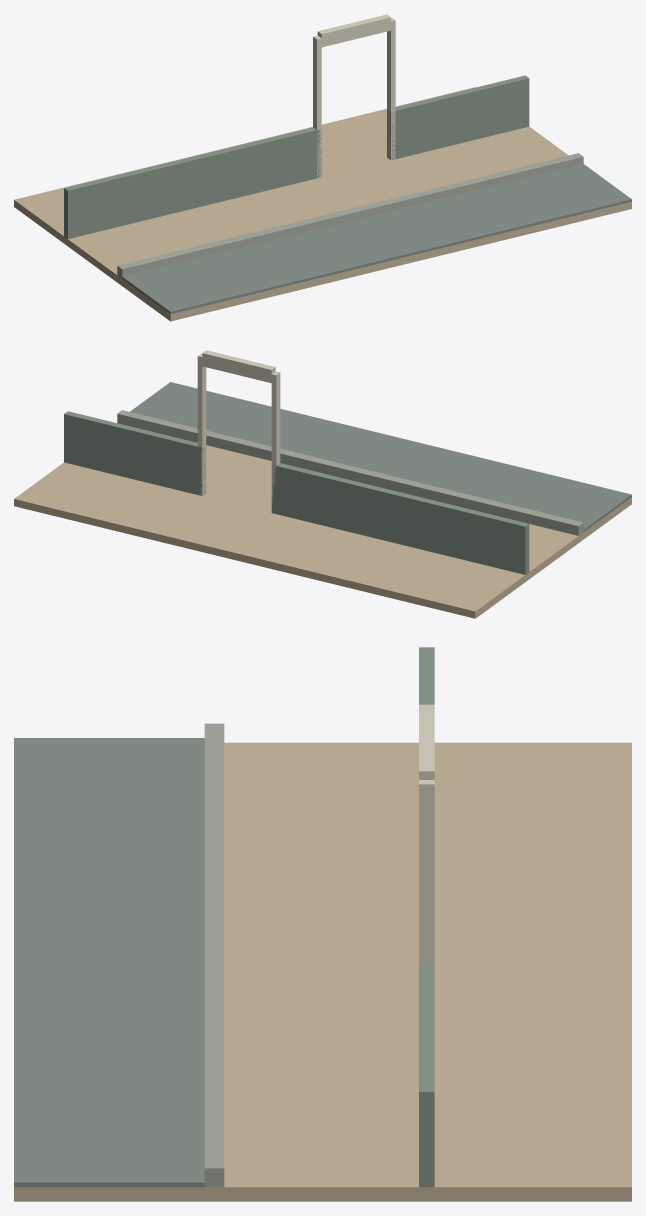
3 renders of one model, top to bottom at view 1: azimuth 30°, elevation 25°; view 2: azimuth 150°, elevation 25°; view 3: azimuth 270°, elevation 25°, orthographic. The views are drawn at different scales.
Visible parts, largest first — view 1: GROUND_0, STREET_7, FY_4, FY_5, CURB_6, YARDG-lintel_3, YARDG-j2_2, YARDG-j1_1; view 2: GROUND_0, STREET_7, FY_4, FY_5, CURB_6, YARDG-lintel_3, YARDG-j2_2, YARDG-j1_1; view 3: GROUND_0, STREET_7, CURB_6, FY_5, YARDG-j2_2, YARDG-lintel_3, FY_4.
Boxes of the visible parts, x1,y1,x2,y2 form: GROUND_0: (14, 87, 631, 321); STREET_7: (122, 164, 631, 314); FY_4: (64, 127, 321, 238); FY_5: (387, 75, 529, 159); CURB_6: (117, 153, 583, 278); YARDG-lintel_3: (317, 14, 390, 47); YARDG-j2_2: (387, 17, 395, 160); YARDG-j1_1: (313, 35, 321, 178); GROUND_0: (14, 445, 631, 618); STREET_7: (130, 382, 631, 531); FY_4: (271, 463, 529, 574); FY_5: (64, 411, 206, 495); CURB_6: (117, 410, 583, 535); YARDG-lintel_3: (202, 350, 275, 383); YARDG-j2_2: (197, 353, 206, 495); YARDG-j1_1: (271, 371, 280, 510); GROUND_0: (14, 742, 631, 1201); STREET_7: (14, 738, 204, 1187); CURB_6: (204, 723, 224, 1187); FY_5: (419, 963, 434, 1187); YARDG-j2_2: (419, 780, 434, 962); YARDG-lintel_3: (419, 704, 434, 779); FY_4: (419, 647, 434, 704).
Bounding box in the file's own units: 8 × 2.49 × 4.7.
